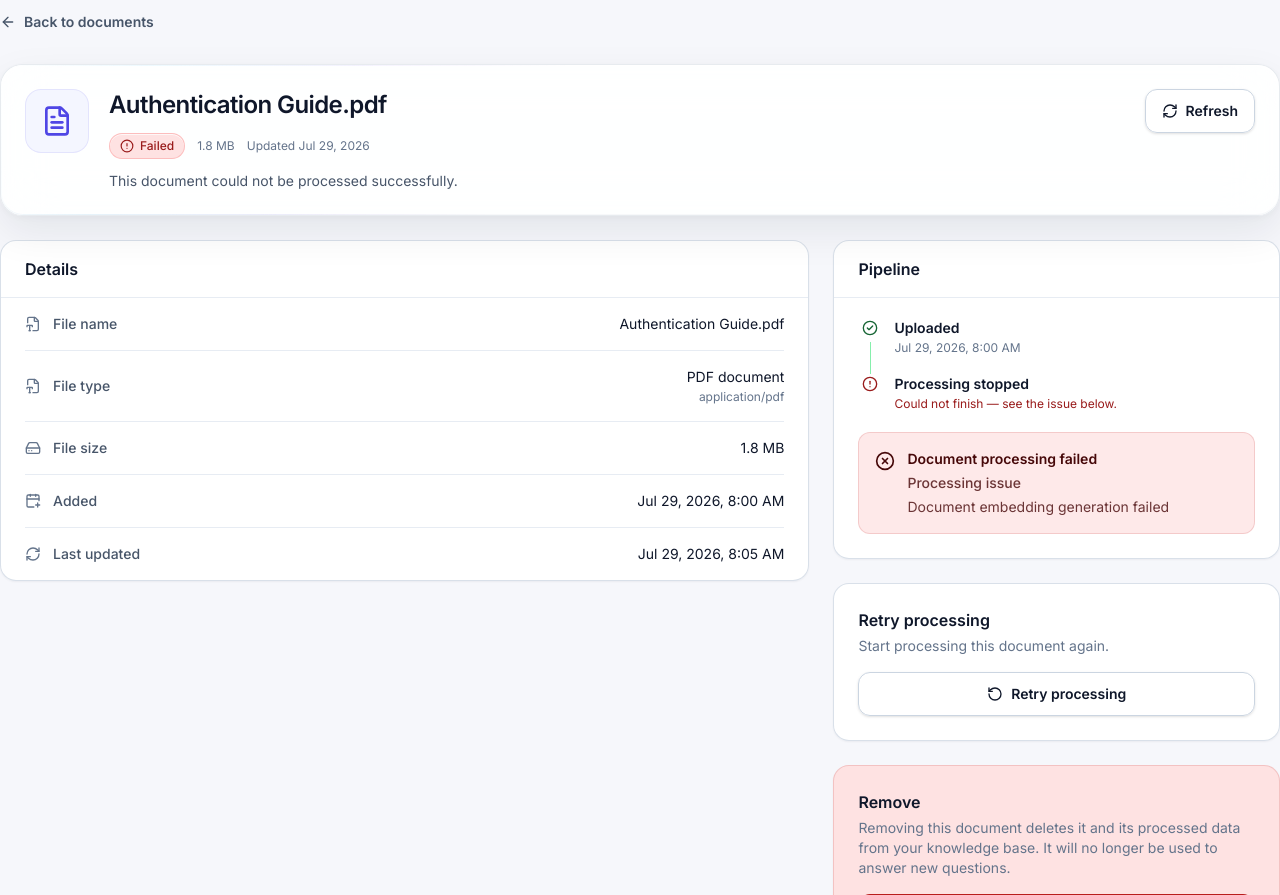
Test case: Document details page › handles a not-found Retry race without disclosing ownership
Click the button "Retry processing".
click(1057, 694)  # box [858, 672, 1255, 716]
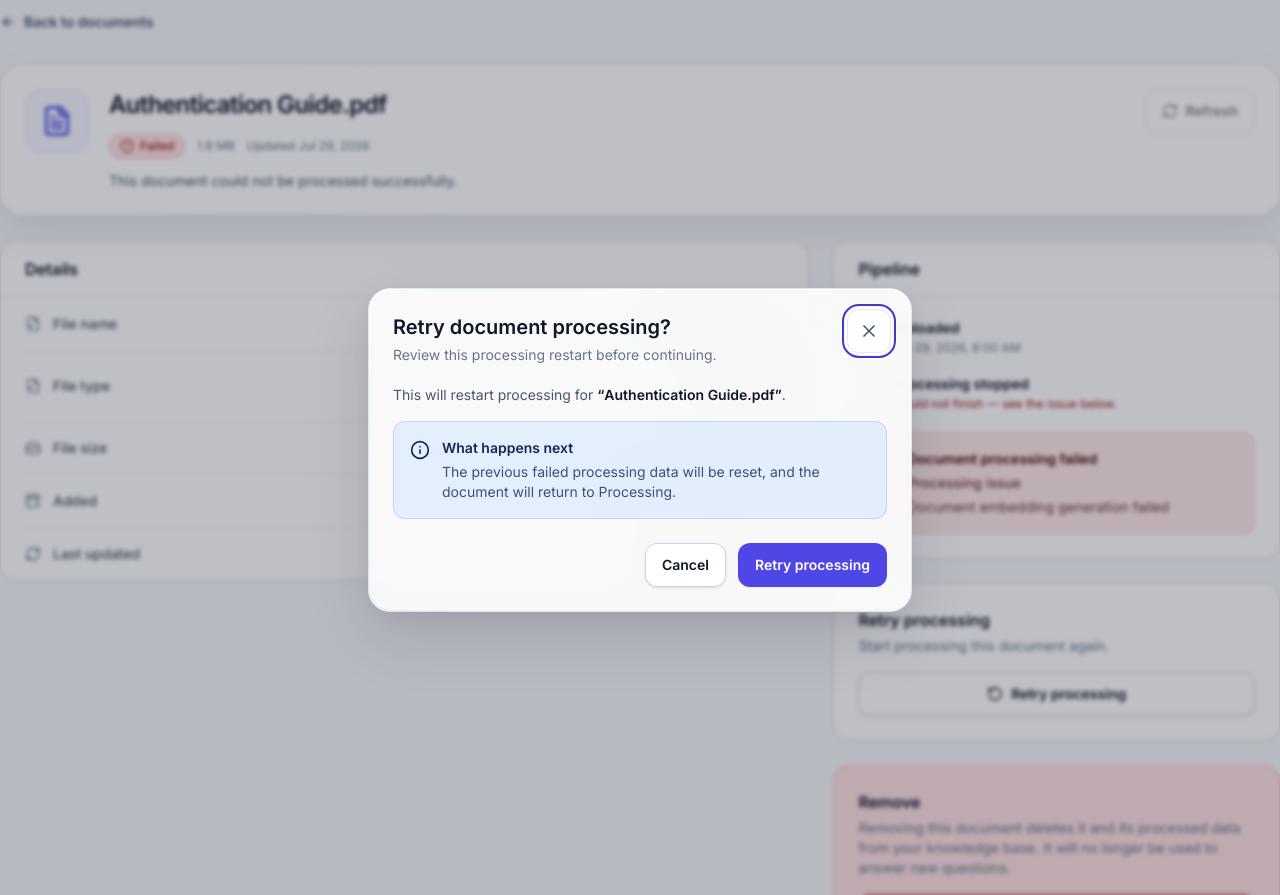
Click the button "Retry processing".
click(812, 565)  # box [738, 543, 887, 587]
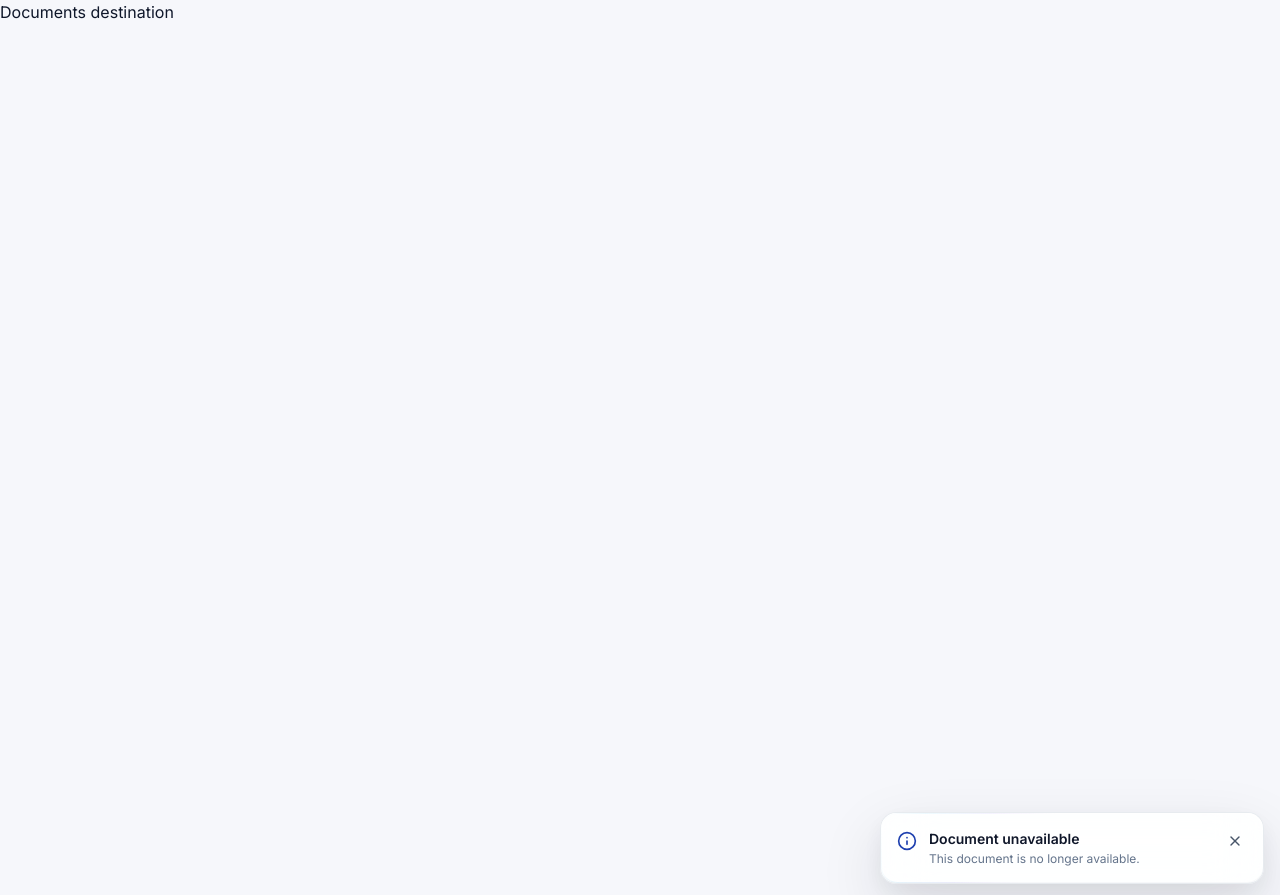
Expected: the heading "Documents destination" is shown, [0, 2, 174, 22]
Expected: the message shows "Document unavailable", [929, 830, 1079, 847]
